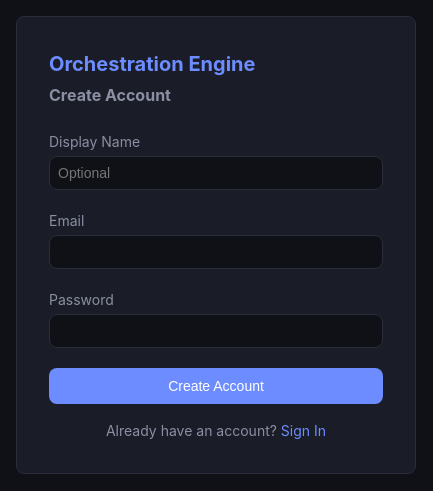
Register › shows loading state
Type "a@b.com" into the field labelled "Email".
click(216, 252); type("a@b.com")  # box [49, 235, 383, 269]
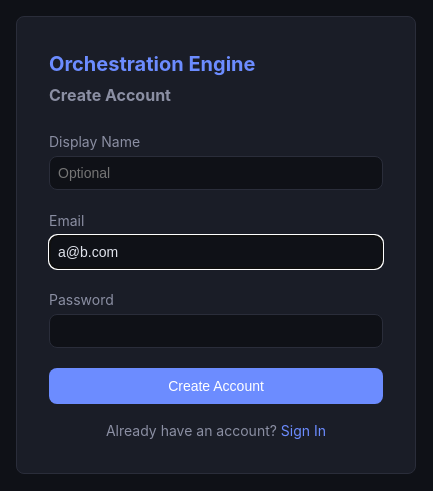
Type "password123" into the password field labelled "Password".
click(216, 331); type("password123")  # box [49, 314, 383, 348]
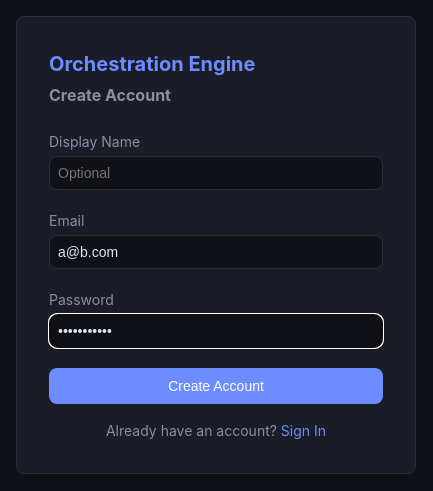
Click the button "Create Account".
click(216, 386)  # box [49, 368, 383, 404]
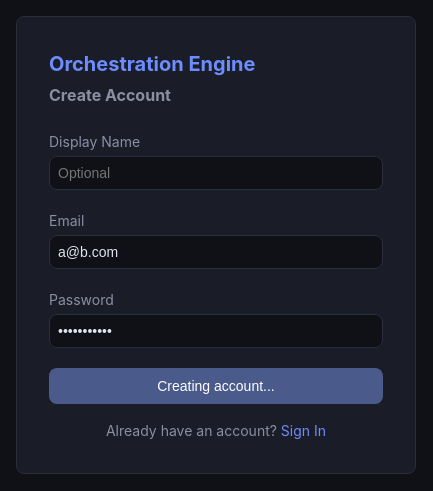
Now the button "Creating account..." is shown, box [49, 368, 383, 404]
